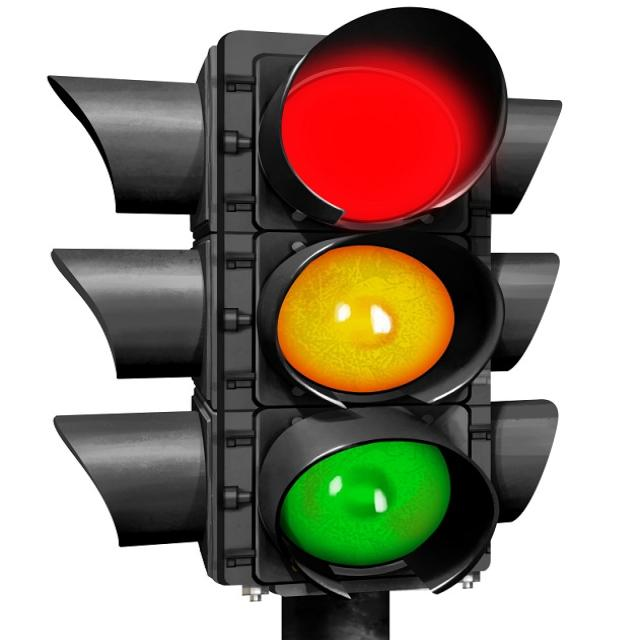Hijau: (273, 439, 464, 570)
Kuning: (275, 248, 462, 397)
Merah: (272, 53, 468, 221)
